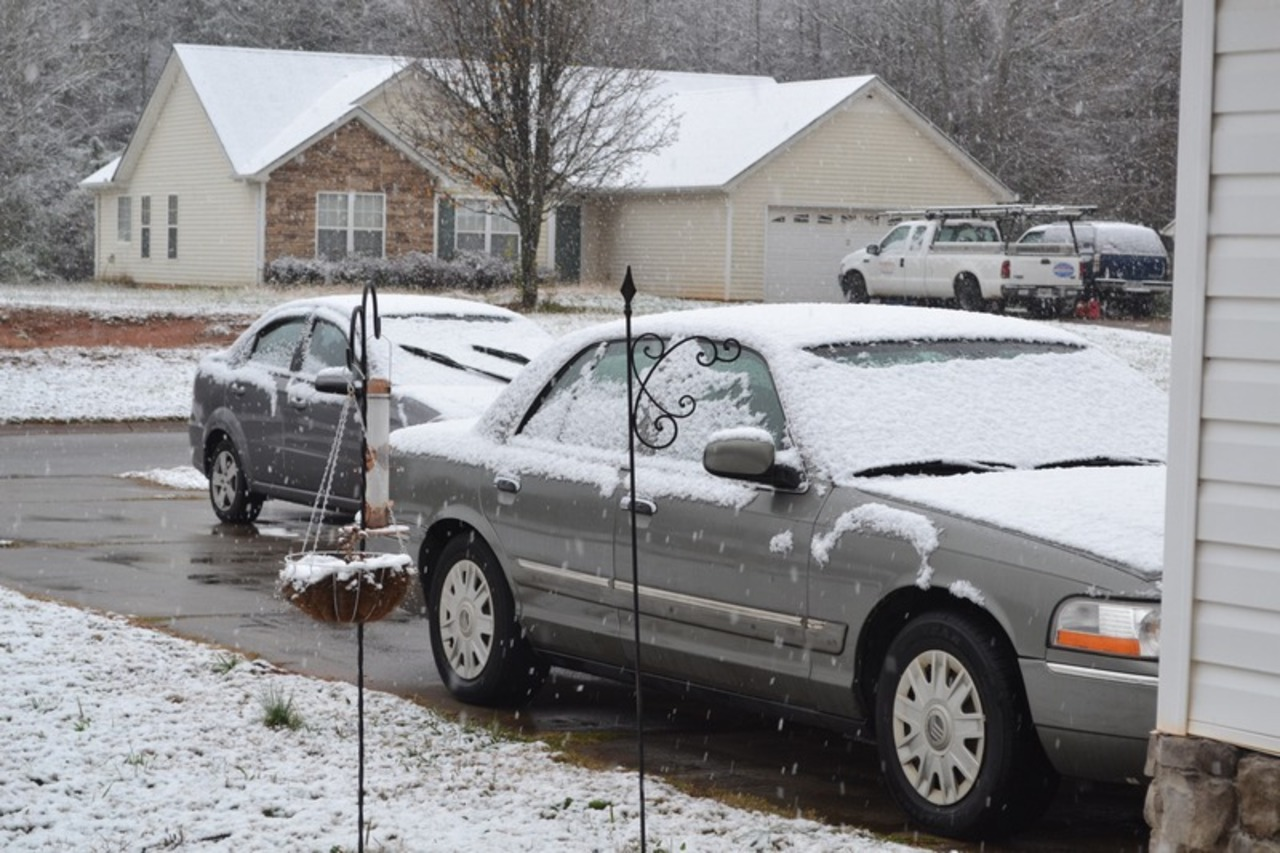car: (411, 302, 1164, 845), (182, 286, 555, 539), (837, 216, 1086, 318), (1019, 215, 1163, 308)
